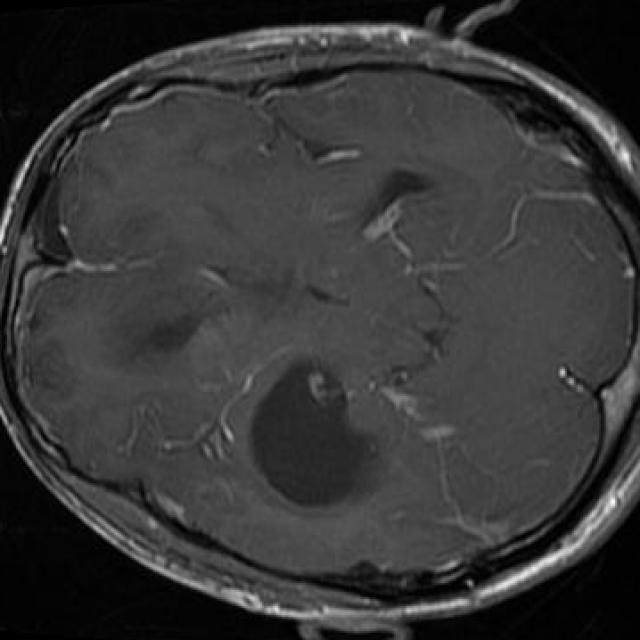glioma: (251, 357, 389, 506)
